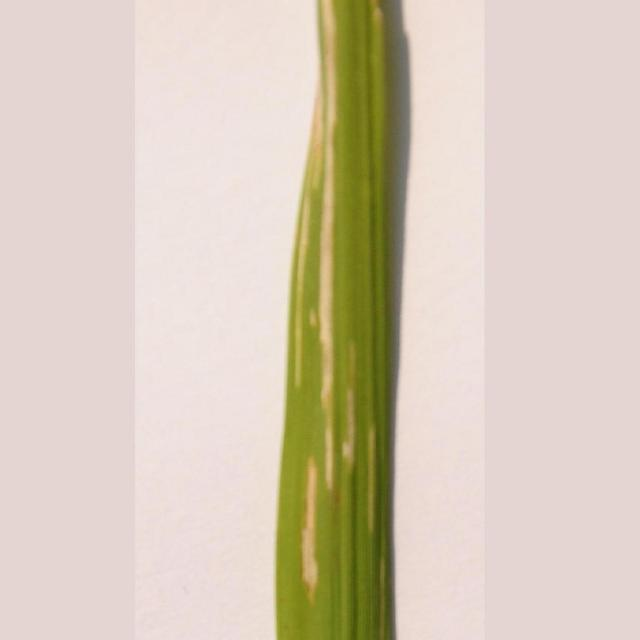leaf blight: (281, 1, 376, 611)
